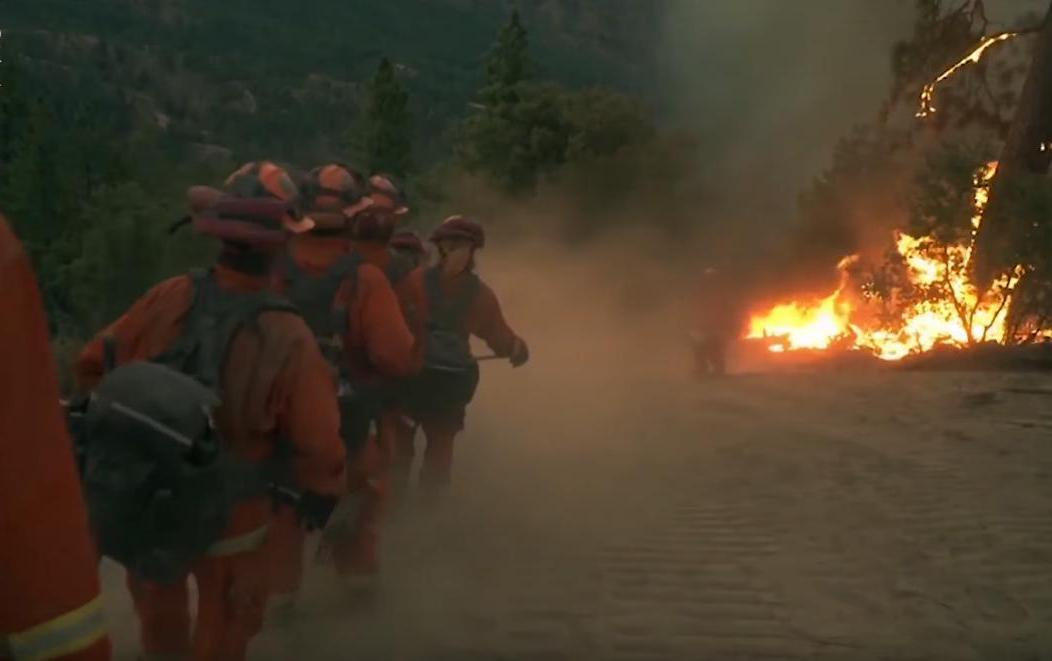Fire: (732, 141, 1049, 377), (917, 24, 1019, 116)
